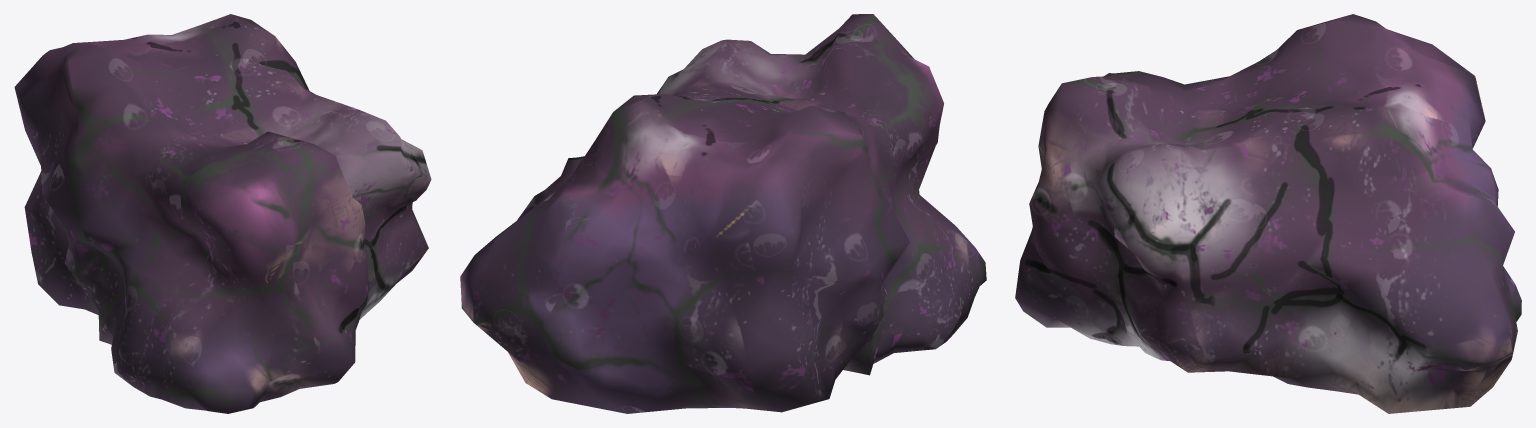
The model's file is obsidian_cracked_rock.glb.
The picture shows the model from 3 angles, left to right: view 1: azimuth 30°, elevation 25°; view 2: azimuth 150°, elevation 25°; view 3: azimuth 270°, elevation 25°; orthographic projection. The views are drawn at different scales.
Parts seen in each view (by area): view 1: Volume4; view 2: Volume4; view 3: Volume4.
Part boxes in pixels (x1,y1,x2,y2): Volume4: (14,14,431,413); Volume4: (460,14,986,413); Volume4: (1015,14,1521,413).
Size of the model in its own units: 0.8421 by 0.6983 by 1.07.
1 material, 1 textured.
